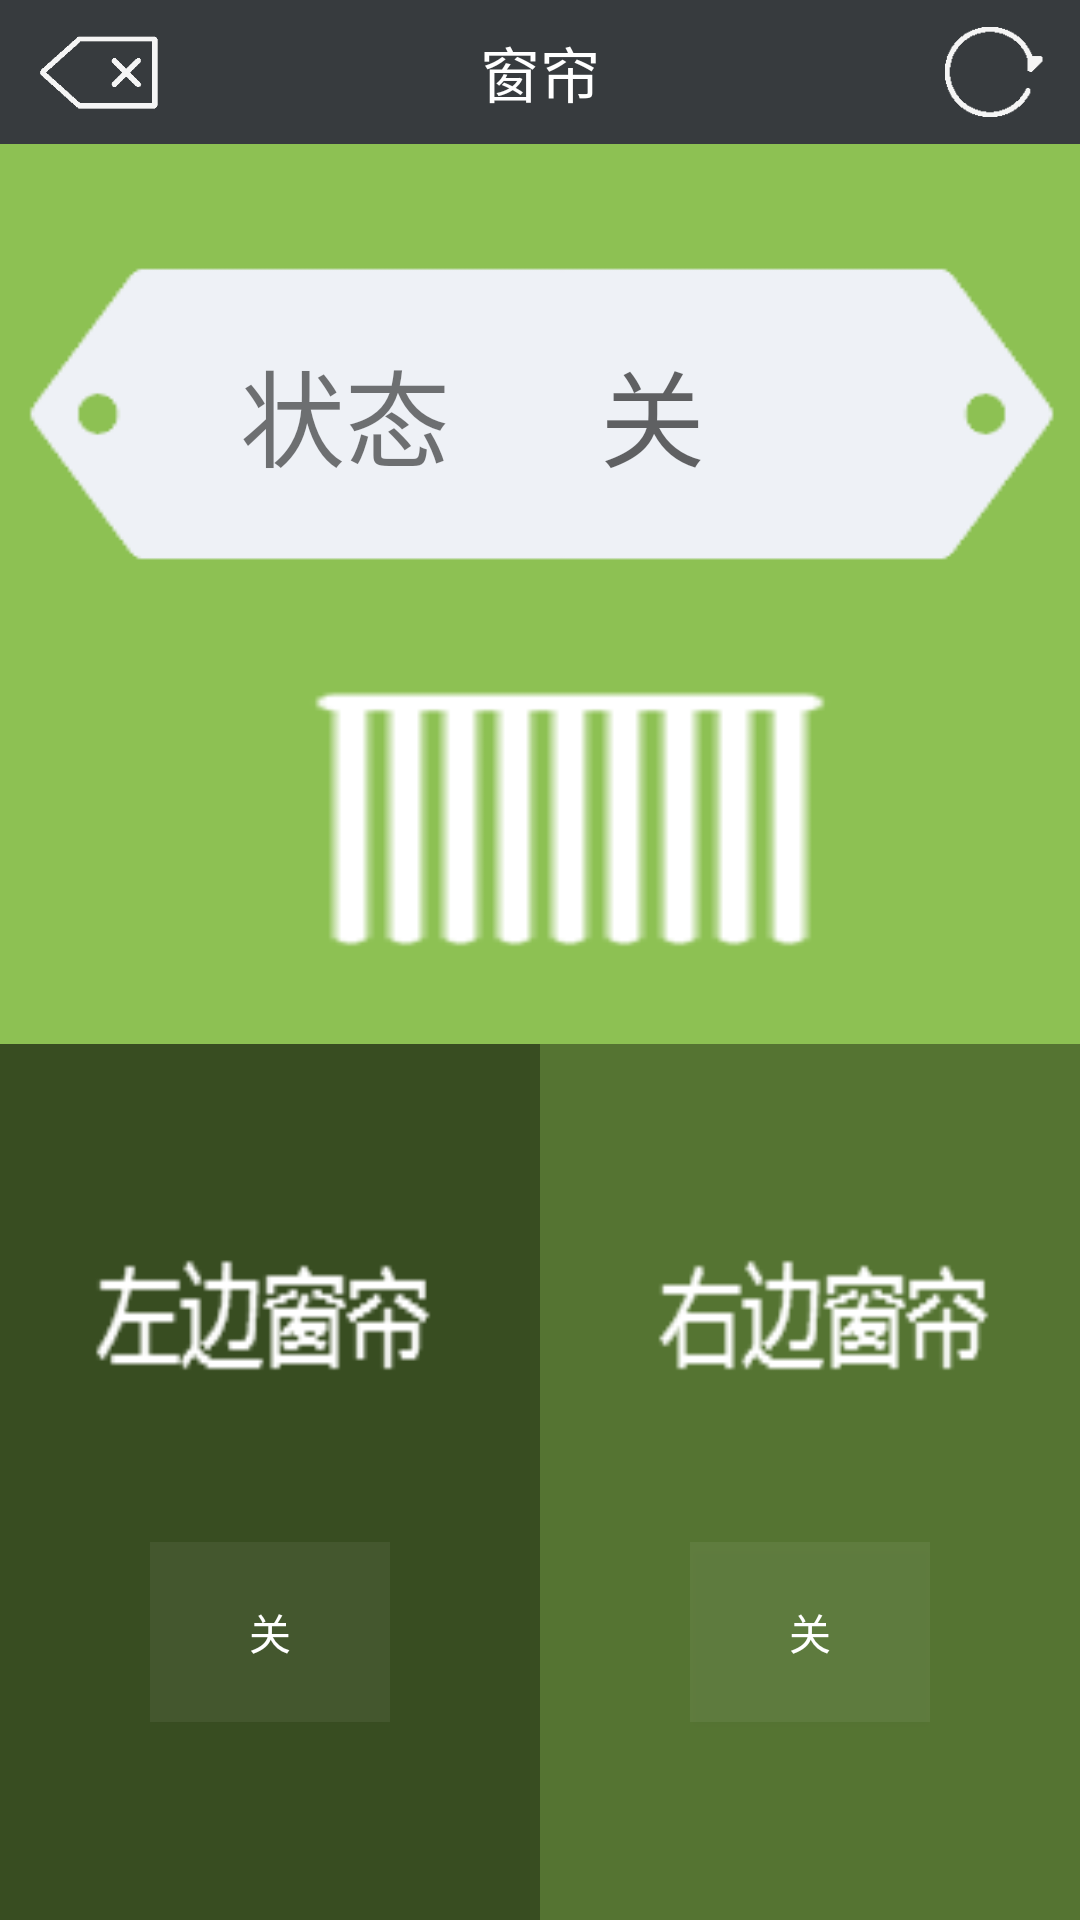

Point at icon controls on the screen. Image size 1080px x 1920px, points as (x,y).
shuaxin: (994,72)
